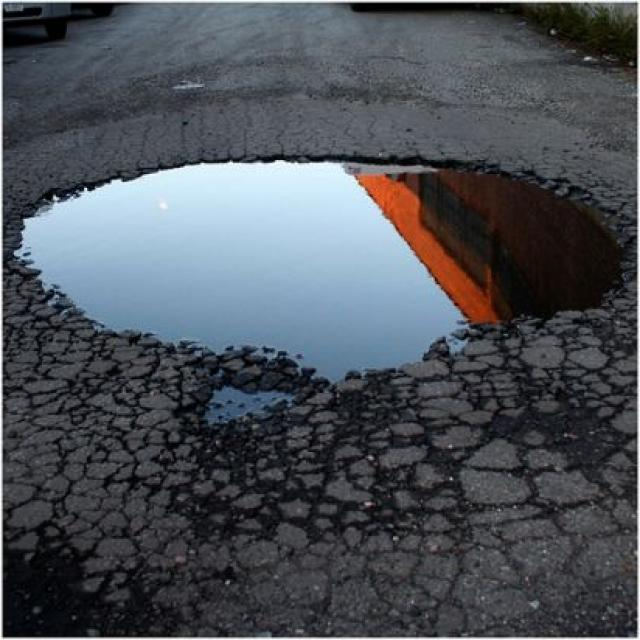pothole: (16, 146, 638, 382)
